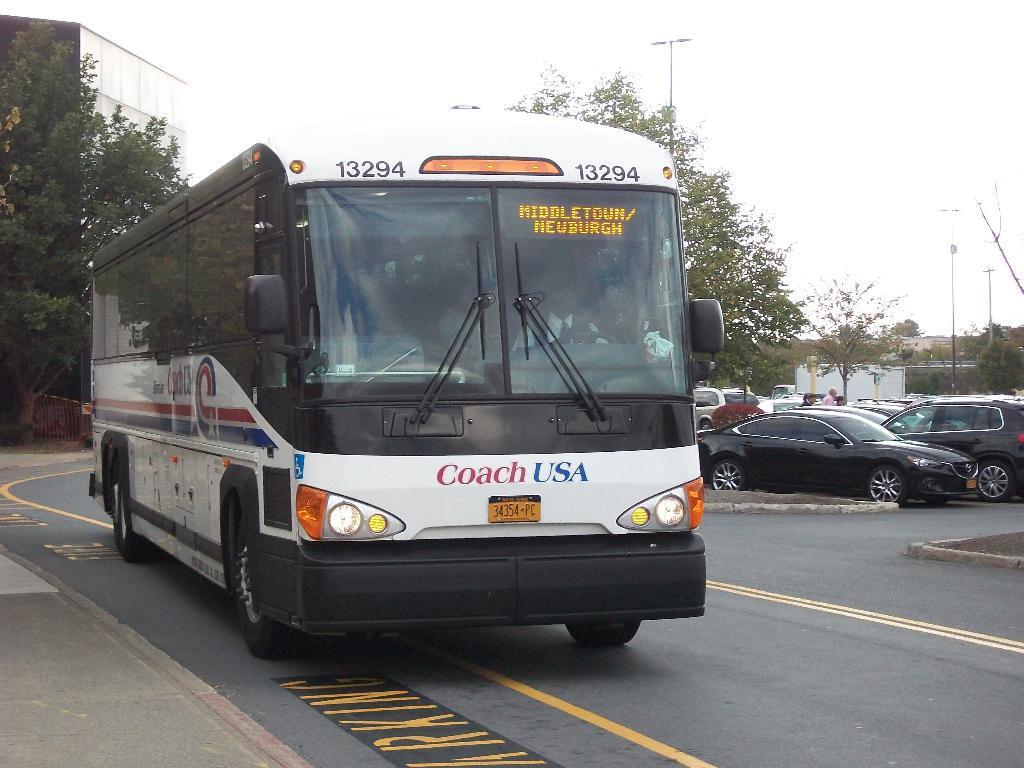Car: (696, 405, 981, 513), (870, 399, 1023, 512), (694, 384, 766, 435), (769, 391, 816, 407)
